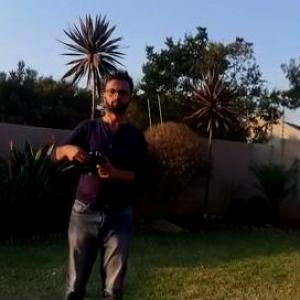follow: (46, 59, 154, 299)
